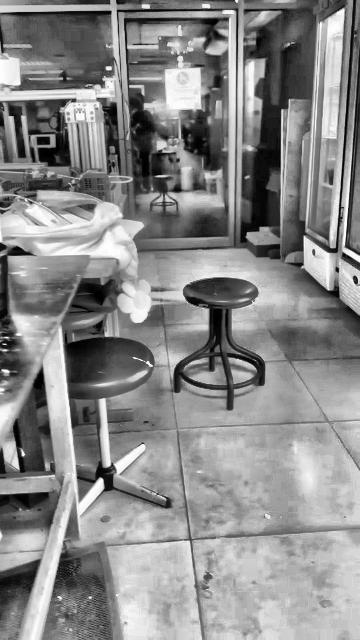pot: (0, 242, 8, 318)
